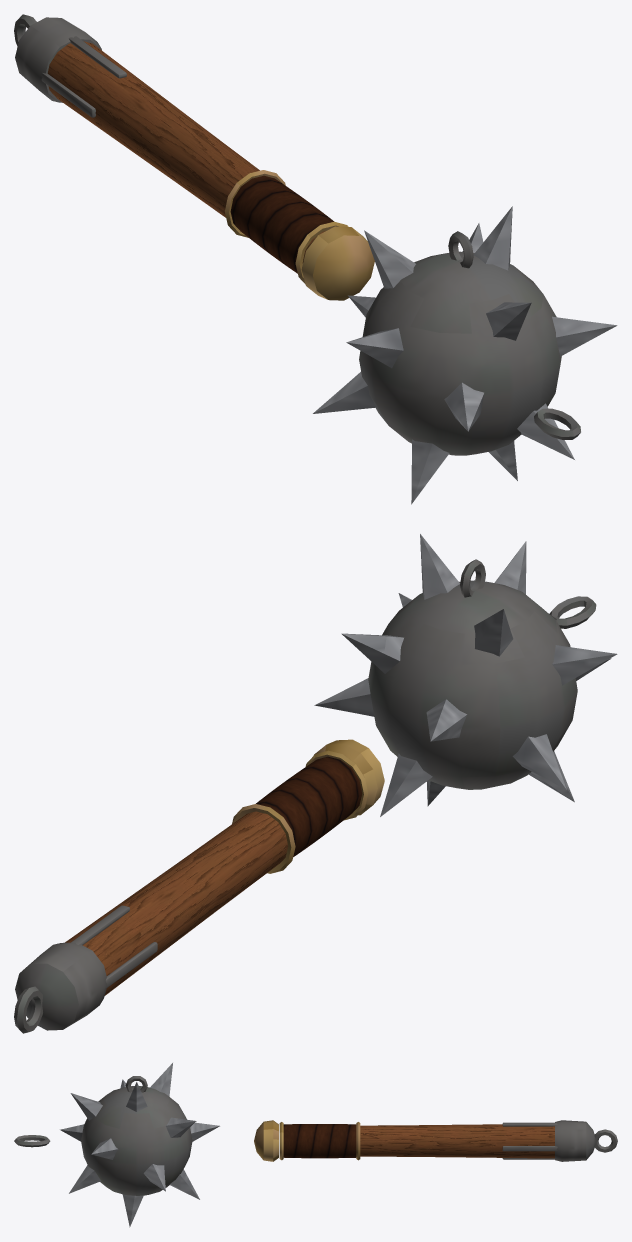
The model's file is flail.glb.
3 views of the same model, one above another, from view 1: azimuth 30°, elevation 25°; view 2: azimuth 150°, elevation 25°; view 3: azimuth 270°, elevation 25° (orthographic). The views are drawn at different scales.
Parts seen in each view (by area): view 1: ball, flail, link; view 2: ball, flail, link; view 3: flail, ball, link.
Boxes of the visible parts, x1,y1,x2,y2 form: ball: [313, 206, 617, 504]; flail: [14, 14, 374, 300]; link: [534, 408, 580, 439]; ball: [314, 534, 617, 816]; flail: [14, 739, 384, 1033]; link: [549, 596, 596, 628]; flail: [254, 1120, 617, 1161]; ball: [60, 1063, 219, 1227]; link: [14, 1135, 50, 1147].
Size of the model in its own units: 0.2297 by 0.2321 by 0.8667.
Materials: 5 (5 with a texture image).
